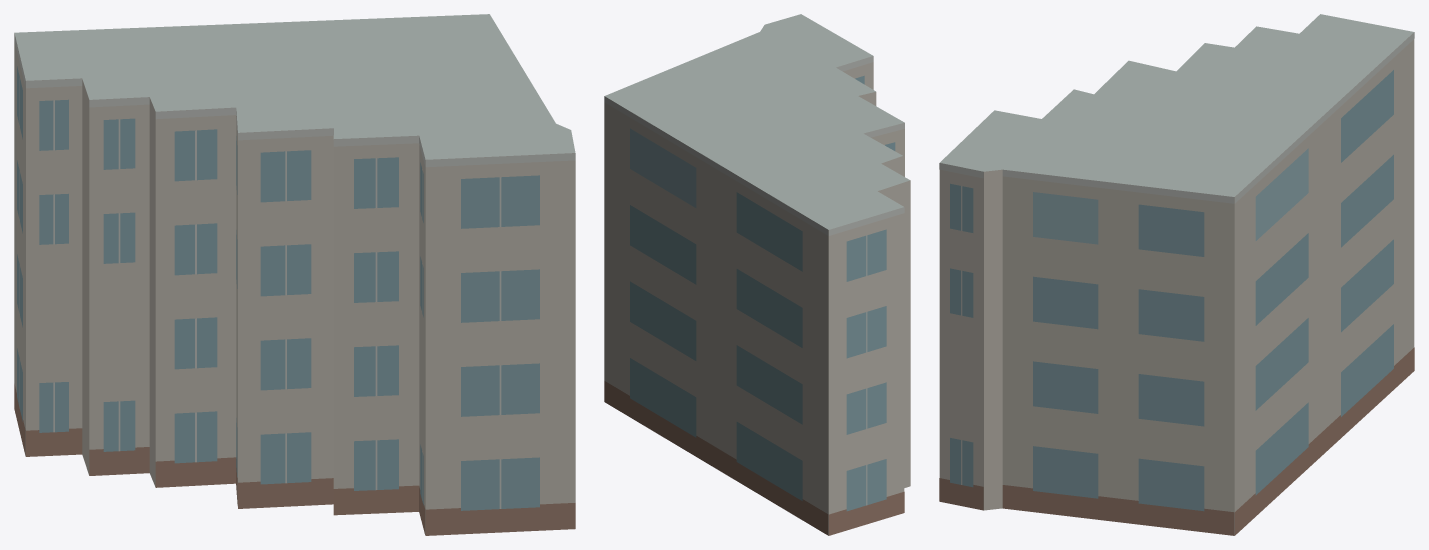
The model's file is survey-upis-33025262.glb.
The picture shows the model from 3 angles, left to right: view 1: azimuth 30°, elevation 25°; view 2: azimuth 150°, elevation 25°; view 3: azimuth 270°, elevation 25°; orthographic projection. The views are drawn at different scales.
Parts seen in each view (by area): view 1: survey-upis-33025262.tmp; view 2: survey-upis-33025262.tmp; view 3: survey-upis-33025262.tmp.
Boxes of the visible parts, left/top/right/bottom form: survey-upis-33025262.tmp: left=14, top=14, right=575, bottom=535; survey-upis-33025262.tmp: left=604, top=14, right=910, bottom=535; survey-upis-33025262.tmp: left=939, top=14, right=1414, bottom=535.
Size of the model in its own units: 14.15 by 12.2 by 15.51.
